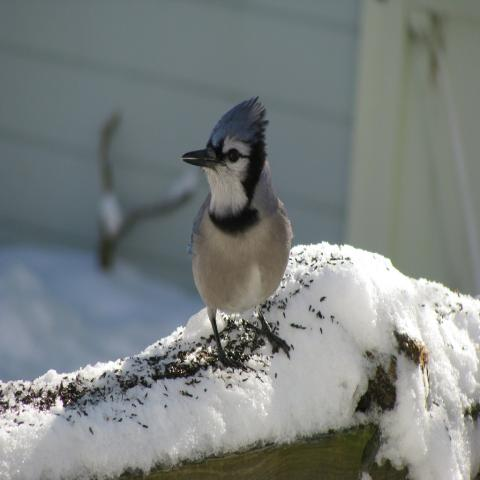bird: (179, 93, 294, 370)
